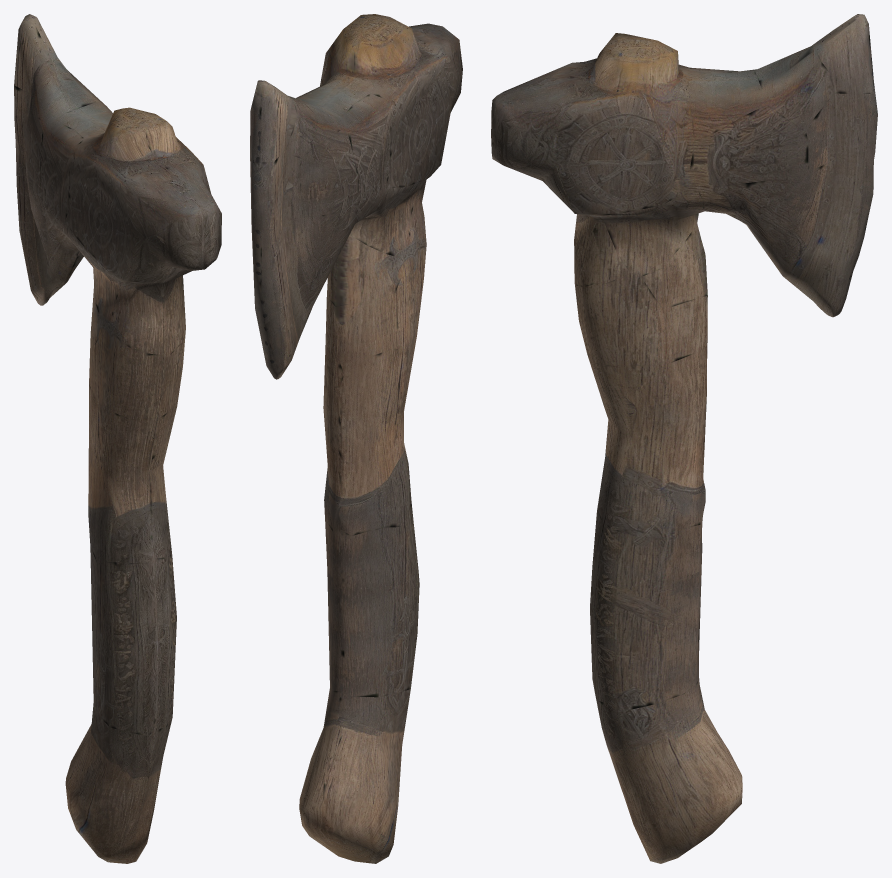
File: medieval_battle_axe__0706100756_refine.fbx
3 views of the same model, side by side, from view 1: azimuth 30°, elevation 25°; view 2: azimuth 150°, elevation 25°; view 3: azimuth 270°, elevation 25° (orthographic). The views are drawn at different scales.
Parts seen in each view (by area): view 1: Mesh_0; view 2: Mesh_0; view 3: Mesh_0.
Part boxes in pixels (x1,y1,x2,y2): Mesh_0: (14,14,221,863); Mesh_0: (250,14,462,863); Mesh_0: (491,14,877,863).
Size of the model in its own units: 13.38 by 120 by 50.
Materials: 1 (1 with a texture image).
